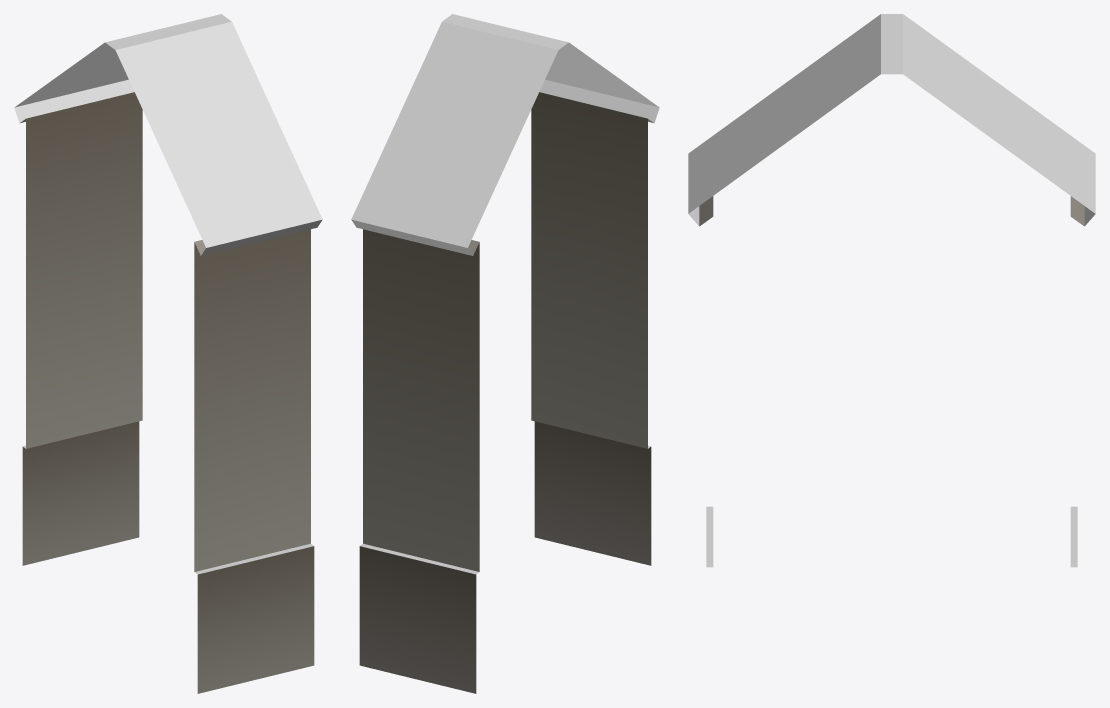
Rendered from Buffer_2.fbx.
3 views of the same model, side by side, from view 1: azimuth 30°, elevation 25°; view 2: azimuth 150°, elevation 25°; view 3: azimuth 270°, elevation 25° (orthographic). The views are drawn at different scales.
Parts seen in each view (by area): view 1: Buffer-2Story_A.002, Buffer-2Story_A.003, Buffer-2Story_A.007, Buffer-2Story_A.006, Buffer-2Story_A.005, Buffer-2Story_A.008; view 2: Buffer-2Story_A.002, Buffer-2Story_A.003, Buffer-2Story_A.007, Buffer-2Story_A.006, Buffer-2Story_A.005, Buffer-2Story_A.008; view 3: Buffer-2Story_A.007, Buffer-2Story_A.005, Buffer-2Story_A.008, Buffer-2Story_A.004, Buffer-2Story_A.001.
Boxes of the visible parts, x1,y1,x2,y2 form: Buffer-2Story_A.002: (26,92,310,571); Buffer-2Story_A.003: (22,421,314,693); Buffer-2Story_A.007: (21,21,315,233); Buffer-2Story_A.006: (14,79,322,255); Buffer-2Story_A.005: (14,77,322,247); Buffer-2Story_A.008: (105,14,231,49); Buffer-2Story_A.002: (363,92,647,571); Buffer-2Story_A.003: (359,421,651,693); Buffer-2Story_A.007: (358,21,652,233); Buffer-2Story_A.006: (351,79,659,255); Buffer-2Story_A.005: (351,77,659,247); Buffer-2Story_A.008: (442,14,568,49); Buffer-2Story_A.007: (702,14,1081,203); Buffer-2Story_A.005: (688,144,1095,213); Buffer-2Story_A.008: (881,14,902,74); Buffer-2Story_A.004: (706,506,1077,567); Buffer-2Story_A.001: (699,196,1084,226).
Size of the model in its own units: 200 by 957 by 570.
